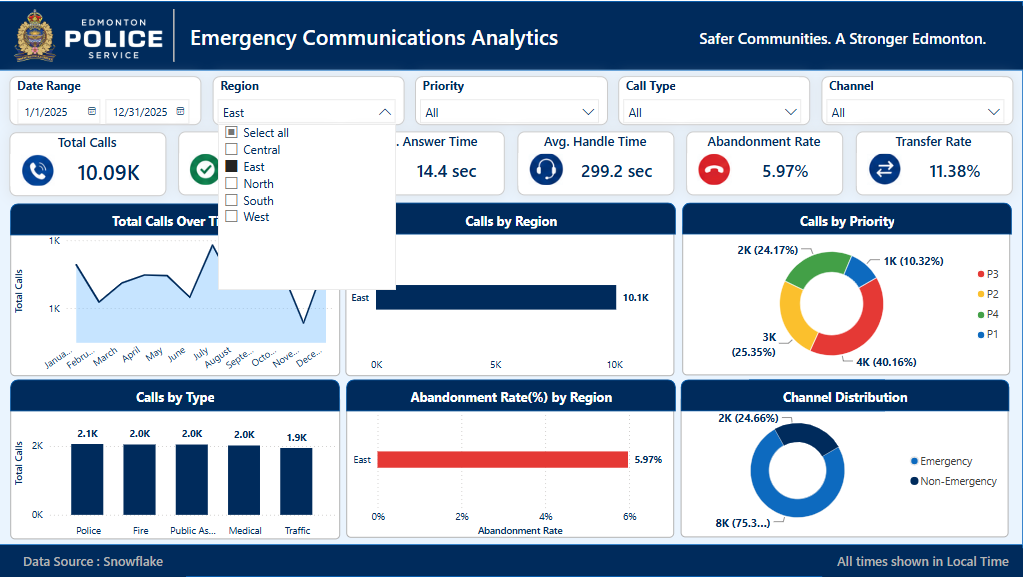

Layout of this report page (visuals, bound fields, positions):
{"tool":"powerbi","page":{"name":"Page 1","canvas":[1280,720],"ordinal":0},"visuals":[{"type":"group","id":"g1","title":"Text","box":[0,0,1280,720],"z":0},{"type":"shape","title":"main space","box":[0,0,1280,720],"z":0,"group":"g1"},{"type":"slicer","title":"Slicer","fields":{"Values":["VW_CALLS_DETAIL.CALL_DATE"]},"box":[13.1,93.8,240,61],"z":0,"group":"g2"},{"type":"cardVisual","title":"Total Calls","fields":{"Data":["Measure.Total Calls"]},"box":[13.4,163.9,195.7,80],"z":0,"group":"g3"},{"type":"textbox","box":[0,5.7,1280,84.3],"z":1000,"group":"g1"},{"type":"group","id":"g2","title":"Filter","box":[13.1,93.8,1255,61],"z":1000},{"type":"slicer","fields":{"Values":["VW_CALLS_DETAIL.REGION"]},"box":[266.9,93.8,240,61],"z":1000,"group":"g2"},{"type":"cardVisual","title":"Service Level","fields":{"Data":["Measure.Service Level"]},"box":[224.8,163.1,196,80],"z":1000,"group":"g3"},{"type":"image","box":[0,10,88.6,65.7],"z":2000,"group":"g1"},{"type":"slicer","fields":{"Values":["VW_CALLS_DETAIL.PRIORITY_LEVEL"]},"box":[520.6,93.8,240,61],"z":2000,"group":"g2"},{"type":"group","id":"g3","title":"KPI","box":[13.4,162.9,1253.7,81],"z":2000},{"type":"cardVisual","title":"Avg. Answer Time","fields":{"Data":["Measure.Avg Wait Time"]},"box":[436.4,163.1,196,80],"z":2000,"group":"g3"},{"type":"image","box":[82.9,0,121.4,94.3],"z":3000,"group":"g1"},{"type":"slicer","fields":{"Values":["VW_CALLS_DETAIL.CALL_TYPE"]},"box":[774.3,93.8,240,61],"z":3000,"group":"g2"},{"type":"cardVisual","title":"Avg. Handle Time","fields":{"Data":["Measure.Avg Handling Time"]},"box":[648.1,163.1,196,80],"z":3000,"group":"g3"},{"type":"donutChart","fields":{"Category":["VW_CALLS_DETAIL.PRIORITY_LEVEL"],"Y":["Measure.Total Calls"]},"box":[854.4,277.8,410,190],"z":3000},{"type":"shape","title":"line","box":[194.3,10,48.6,65.7],"z":4000,"group":"g1"},{"type":"slicer","fields":{"Values":["VW_CALLS_DETAIL.CHANNEL"]},"box":[1028.1,93.8,240,61],"z":4000,"group":"g2"},{"type":"cardVisual","title":"Abandonment Rate","fields":{"Data":["Measure.Abandonment Rate"]},"box":[859.7,163.1,196,80],"z":4000,"group":"g3"},{"type":"donutChart","fields":{"Category":["VW_CALLS_DETAIL.CHANNEL"],"Y":["Measure.Total Calls"]},"box":[852.2,493.3,410,176.7],"z":4000},{"type":"textbox","box":[870,28.6,397.1,65.7],"z":5000,"group":"g1"},{"type":"cardVisual","title":"Transfer Rate","fields":{"Data":["Measure.Transfer Rate"]},"box":[1071.4,162.9,195.7,80],"z":5000,"group":"g3"},{"type":"barChart","fields":{"Y":["Measure.Abandonment Rate"],"Category":["VW_CALLS_DETAIL.REGION"]},"box":[434.4,485.6,410,184.4],"z":5000},{"type":"shape","title":"white space","box":[0,86,1280,594],"z":6000,"group":"g1"},{"type":"columnChart","fields":{"Category":["VW_CALLS_DETAIL.CALL_TYPE"],"Y":["Measure.Total Calls"]},"box":[14.4,493.3,411.1,180],"z":6000},{"type":"barChart","fields":{"Y":["Measure.Total Calls"],"Category":["VW_CALLS_DETAIL.REGION"]},"box":[433.3,278.9,411.1,188.9],"z":7000},{"type":"textbox","box":[0,684.3,234.3,35.7],"z":7000,"group":"g1"},{"type":"lineChart","fields":{"Y":["Measure.Total Calls"],"Category":["VW_CALLS_DETAIL.CALL_DATE.Variation.Date Hierarchy.Month"]},"box":[14.4,278.9,411.1,188.9],"z":8000},{"type":"textbox","box":[1028.6,684.3,251.4,35.7],"z":8000,"group":"g1"},{"type":"shape","title":"Total Calls Over Time","box":[14.4,253.3,411.1,40],"z":9000},{"type":"shape","title":"Total Calls Over Time","box":[434.4,252.2,411.1,40],"z":10000},{"type":"shape","title":"Total Calls Over Time","box":[854.4,252.2,411.1,40],"z":11000},{"type":"shape","title":"Total Calls Over Time","box":[14.4,473.3,411.1,40],"z":12000},{"type":"shape","title":"Total Calls Over Time","box":[434.4,473.3,411.1,40],"z":13000},{"type":"shape","title":"Total Calls Over Time","box":[852.2,473.3,411.1,40],"z":14000}]}

Visuals, with their boxes in screenshot pixels (x1, y1, x2, y2), scaled from the page's 1280x720 canvas onto the 1024x578 screenshot:
"Text" group: 0:0:1023:577
"main space" shape: 0:0:1023:577
"Slicer" slicer: 10:75:202:124
"Total Calls" cardVisual: 11:132:167:196
textbox: 0:5:1023:72
"Filter" group: 10:75:1014:124
slicer - VW_CALLS_DETAIL.REGION: 214:75:406:124
"Service Level" cardVisual: 180:131:337:195
image: 0:8:71:61
slicer - VW_CALLS_DETAIL.PRIORITY_LEVEL: 416:75:608:124
"KPI" group: 11:131:1014:196
"Avg. Answer Time" cardVisual: 349:131:506:195
image: 66:0:163:76
slicer - VW_CALLS_DETAIL.CALL_TYPE: 619:75:811:124
"Avg. Handle Time" cardVisual: 518:131:675:195
donutChart - VW_CALLS_DETAIL.PRIORITY_LEVEL x Measure.Total Calls: 684:223:1012:376
"line" shape: 155:8:194:61
slicer - VW_CALLS_DETAIL.CHANNEL: 822:75:1014:124
"Abandonment Rate" cardVisual: 688:131:845:195
donutChart - VW_CALLS_DETAIL.CHANNEL x Measure.Total Calls: 682:396:1010:538
textbox: 696:23:1014:76
"Transfer Rate" cardVisual: 857:131:1014:195
barChart - Measure.Abandonment Rate x VW_CALLS_DETAIL.REGION: 348:390:676:538
"white space" shape: 0:69:1023:546
columnChart - VW_CALLS_DETAIL.CALL_TYPE x Measure.Total Calls: 12:396:340:541
barChart - Measure.Total Calls x VW_CALLS_DETAIL.REGION: 347:224:676:376
textbox: 0:549:187:577
lineChart - Measure.Total Calls x VW_CALLS_DETAIL.CALL_DATE.Variation.Date Hierarchy.Month: 12:224:340:376
textbox: 823:549:1023:577
"Total Calls Over Time" shape: 12:203:340:235
"Total Calls Over Time" shape: 348:202:676:235
"Total Calls Over Time" shape: 684:202:1012:235
"Total Calls Over Time" shape: 12:380:340:412
"Total Calls Over Time" shape: 348:380:676:412
"Total Calls Over Time" shape: 682:380:1011:412
